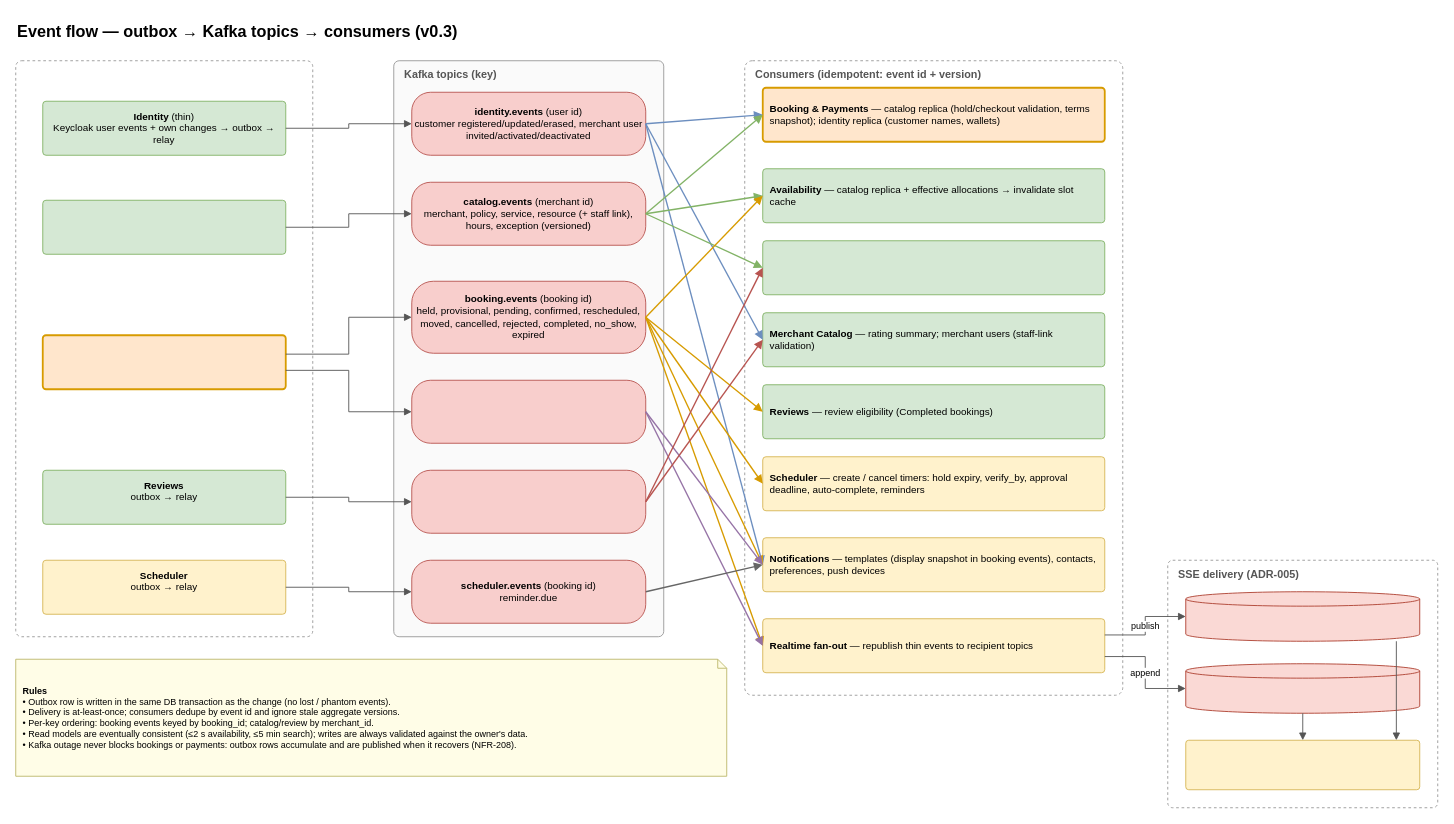
Image size: 1454x824. Some labels were removed from this diagram. Each missing label, with the box of its shape:
Booking & Payments outbox → relay: (41, 334, 286, 390)
Discovery / Search — merchant + service index, rating: (762, 240, 1105, 295)
Merchant Catalog outbox → relay: (42, 199, 286, 254)
Producers (DB transaction writes change + outbox row; relay publishes): (15, 60, 313, 637)
Redis Pub/Sub customer:{id} · merchant:{id}: (1185, 591, 1420, 641)
Redis Streams replay ≥5 min (Last-Event-ID): (1185, 663, 1420, 713)
review.events (merchant id) review created/replied, rating changed: (411, 469, 646, 533)
SSE gateway pods → clients role filter (Staff: own bookings): (1185, 739, 1420, 790)
wallet.events (wallet id) wallet.updated, ledger tx posted: (411, 379, 646, 443)
